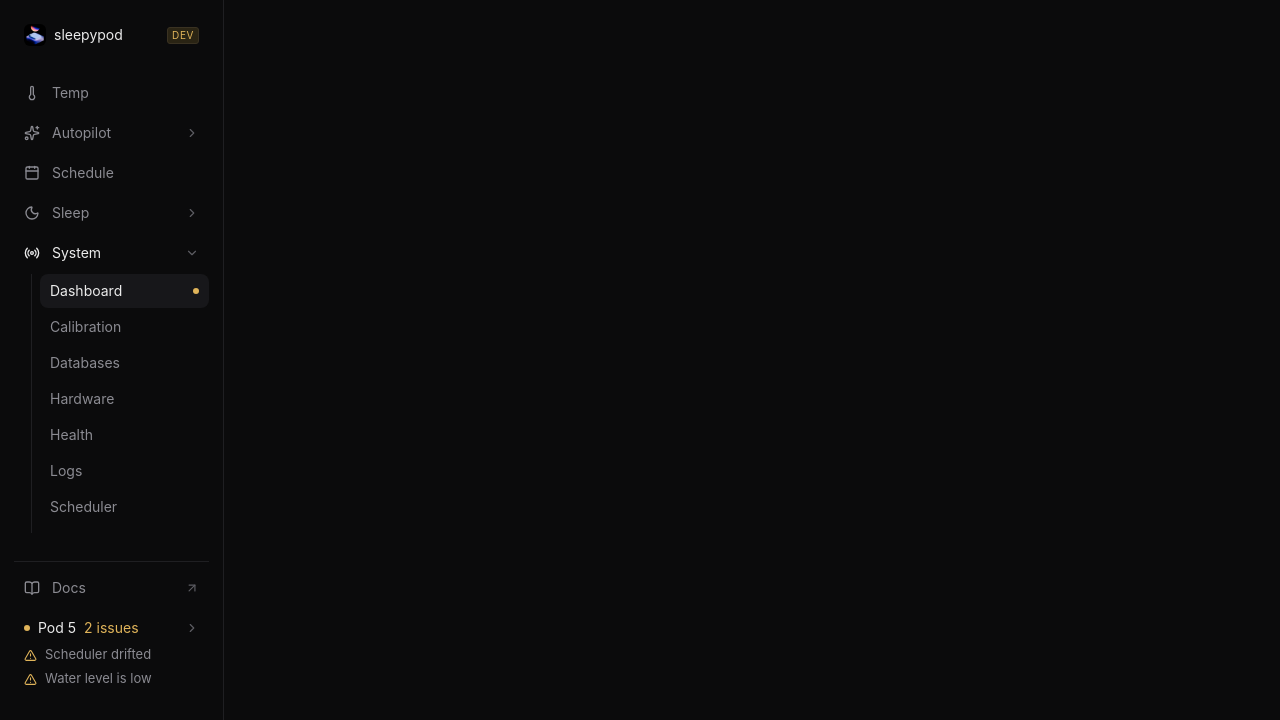
Test: responsive navigation › shows pod model and every issue in full, with build info behind the DEV chip
This screenshot has width=1280, height=720.
Expected: the link named "Open System dashboard" shows "Pod 5", left=14, top=610, right=209, bottom=696
Expected: the link named "Open System dashboard" shows "2 issues", left=14, top=610, right=209, bottom=696
Click the button with aria-label "Build details": (183, 35) left=167, top=26, right=199, bottom=44
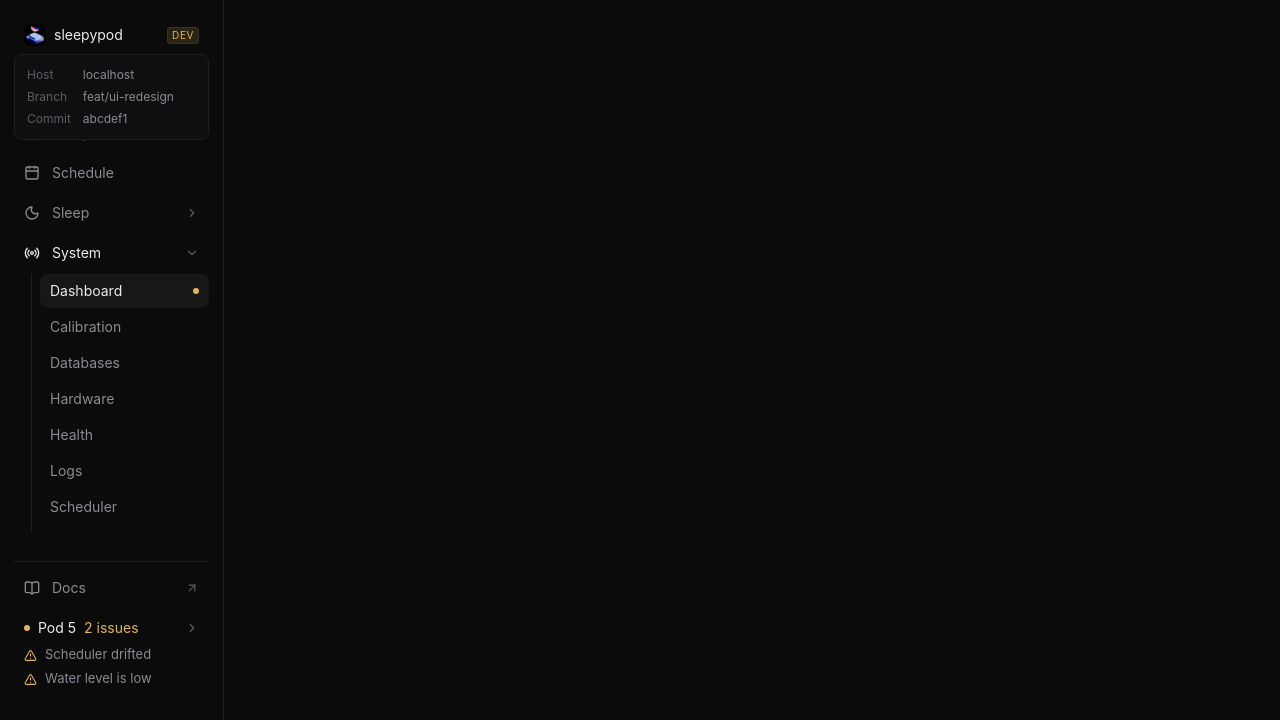
Press Escape
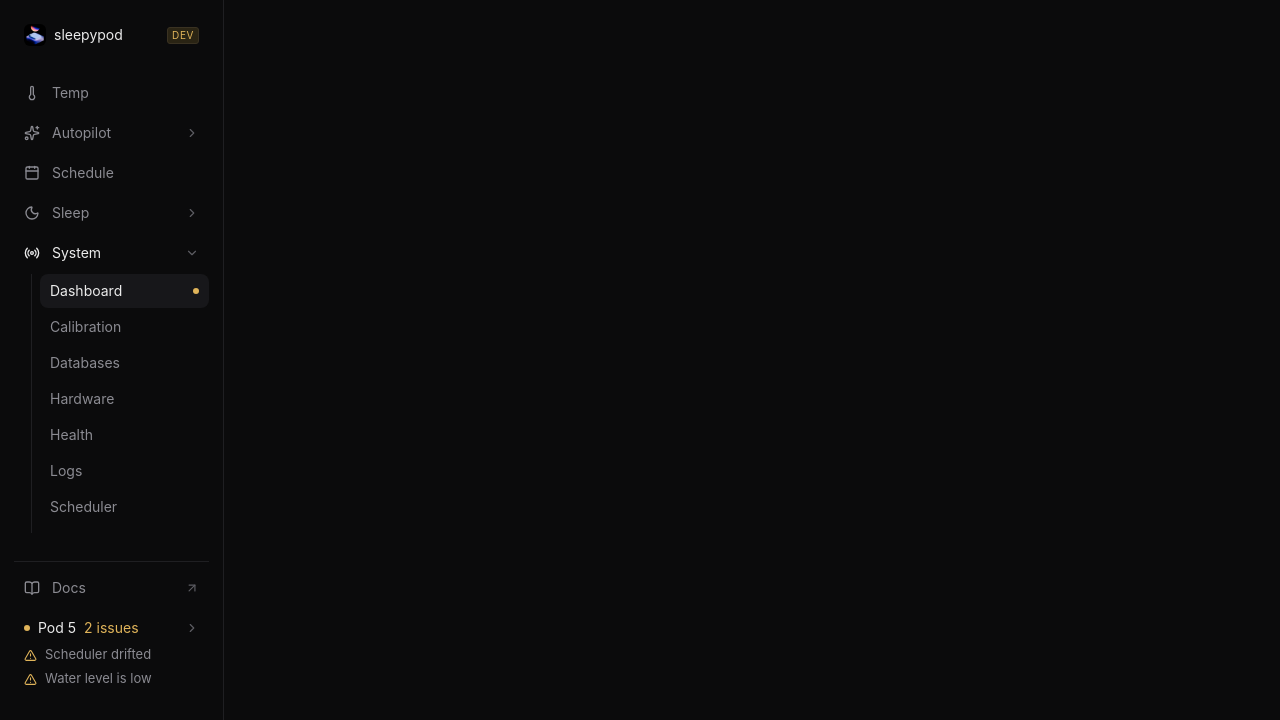
Now the element with test id "build-details" is gone
Click the button with aria-label "Build details": (183, 35) left=167, top=26, right=199, bottom=44
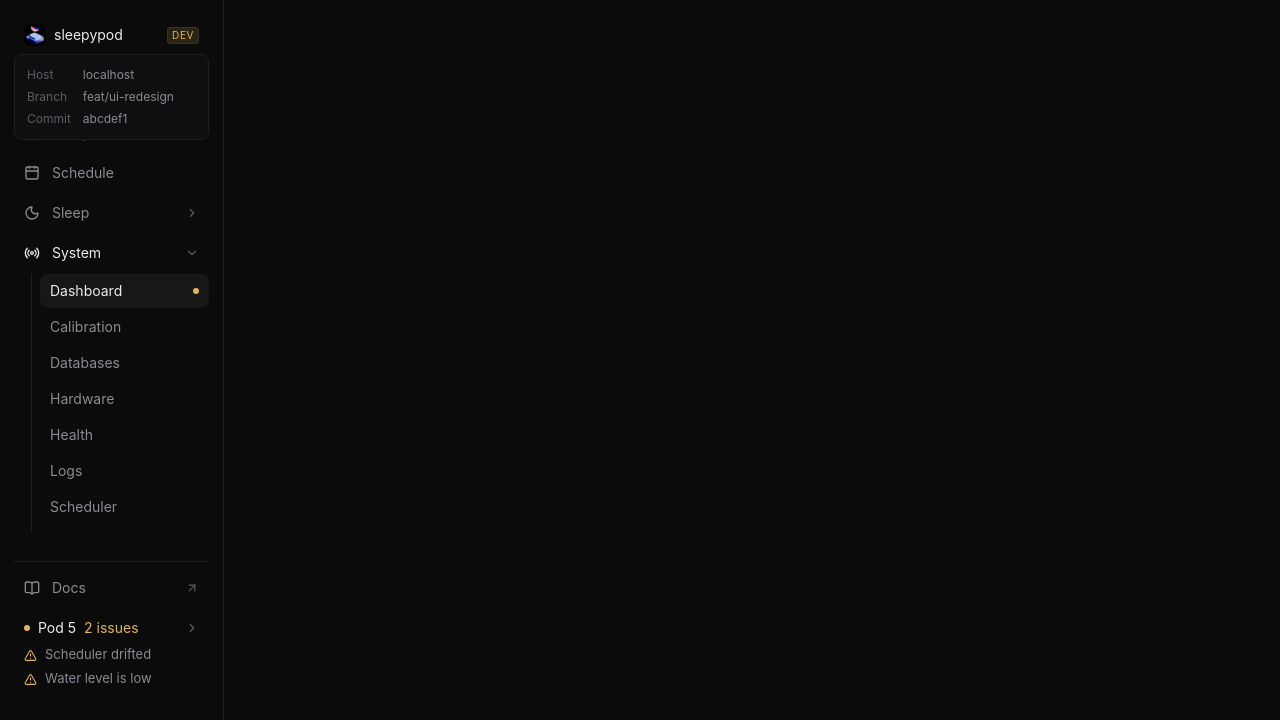
Press the mouse on the element that starts with "sleepypod": (640, 360) left=0, top=0, right=1279, bottom=719
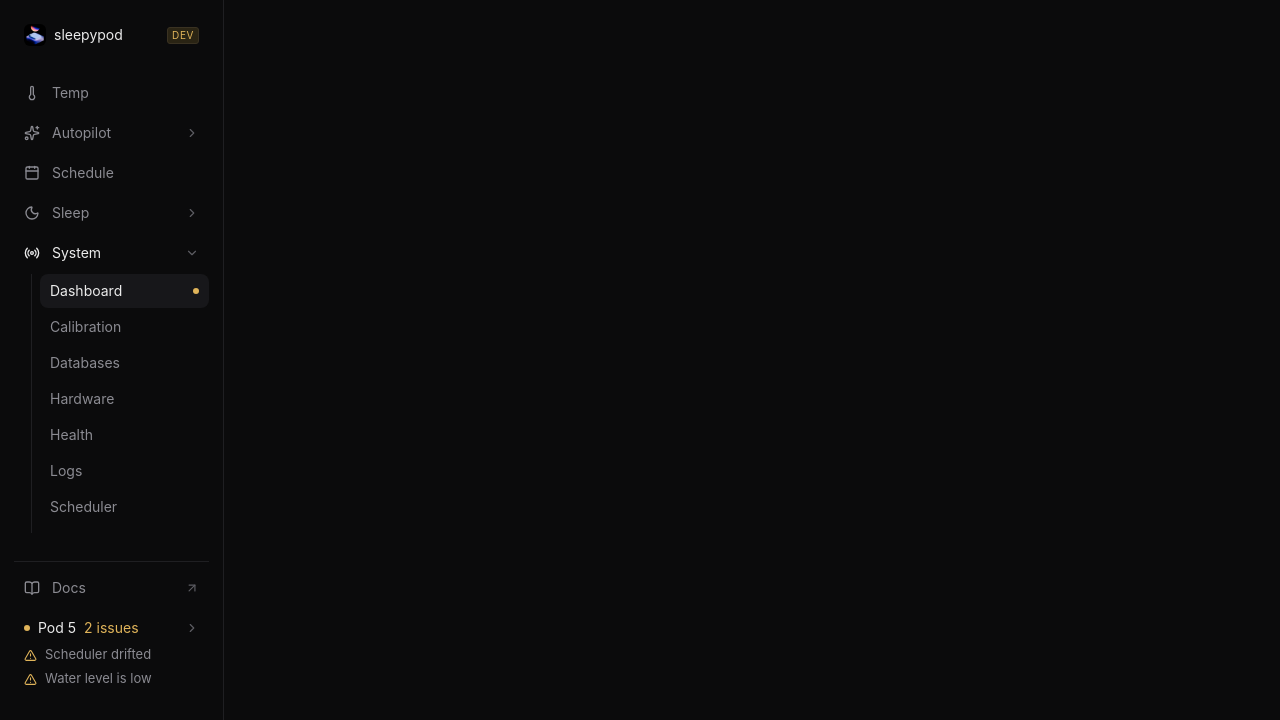
Now the element with test id "build-details" is gone
